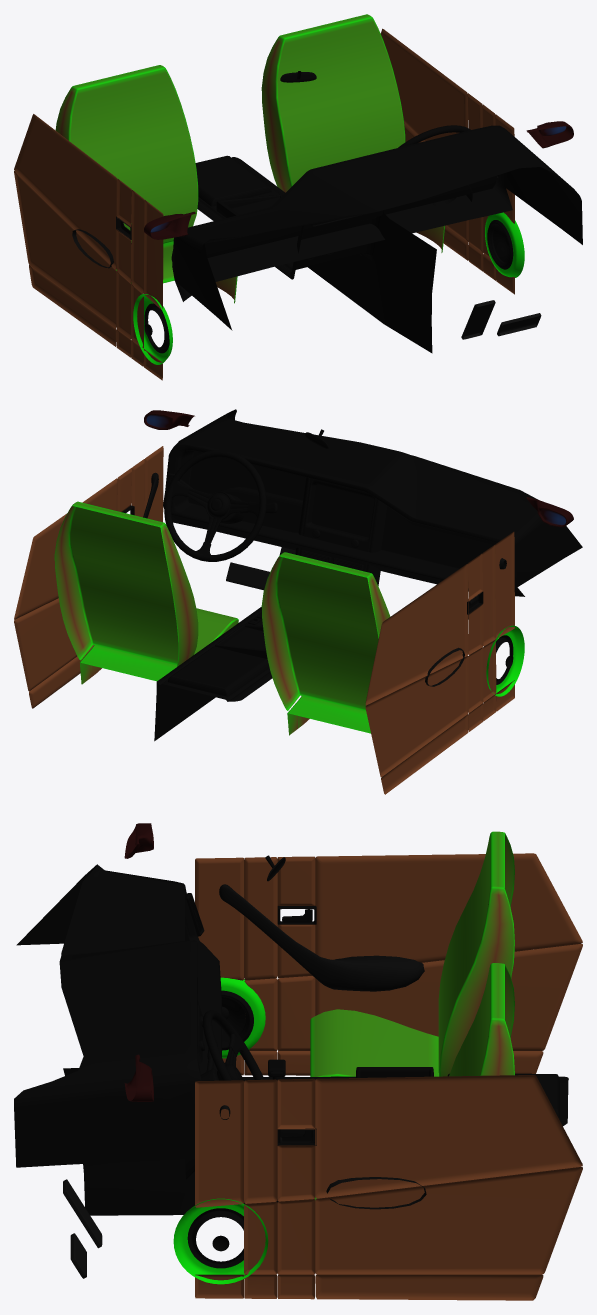
The model's file is VRCarInterior_V2_01.fbx.
The picture shows the model from 3 angles, top to bottom: view 1: azimuth 30°, elevation 25°; view 2: azimuth 150°, elevation 25°; view 3: azimuth 270°, elevation 25°; orthographic projection. The views are drawn at different scales.
Parts seen in each view (by area): view 1: Interior; view 2: Interior; view 3: Interior.
Boxes of the visible parts, x1=… form: Interior: x1=14, y1=14, x2=582, y2=380; Interior: x1=14, y1=409, x2=582, y2=794; Interior: x1=14, y1=823, x2=582, y2=1300.
Size of the model in its own units: 198 by 112 by 177.
